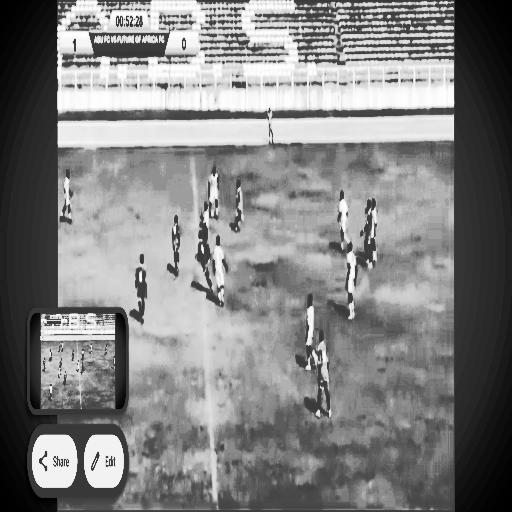referee: (259, 101, 278, 149), (200, 200, 210, 240)
team1: (344, 242, 357, 327), (303, 288, 316, 368), (208, 156, 222, 222), (214, 237, 226, 313), (337, 185, 349, 250), (62, 165, 73, 228), (370, 195, 378, 264)
team2: (317, 332, 333, 426), (130, 248, 149, 326), (166, 210, 182, 279), (196, 229, 211, 297), (233, 166, 246, 242), (364, 195, 372, 264)
